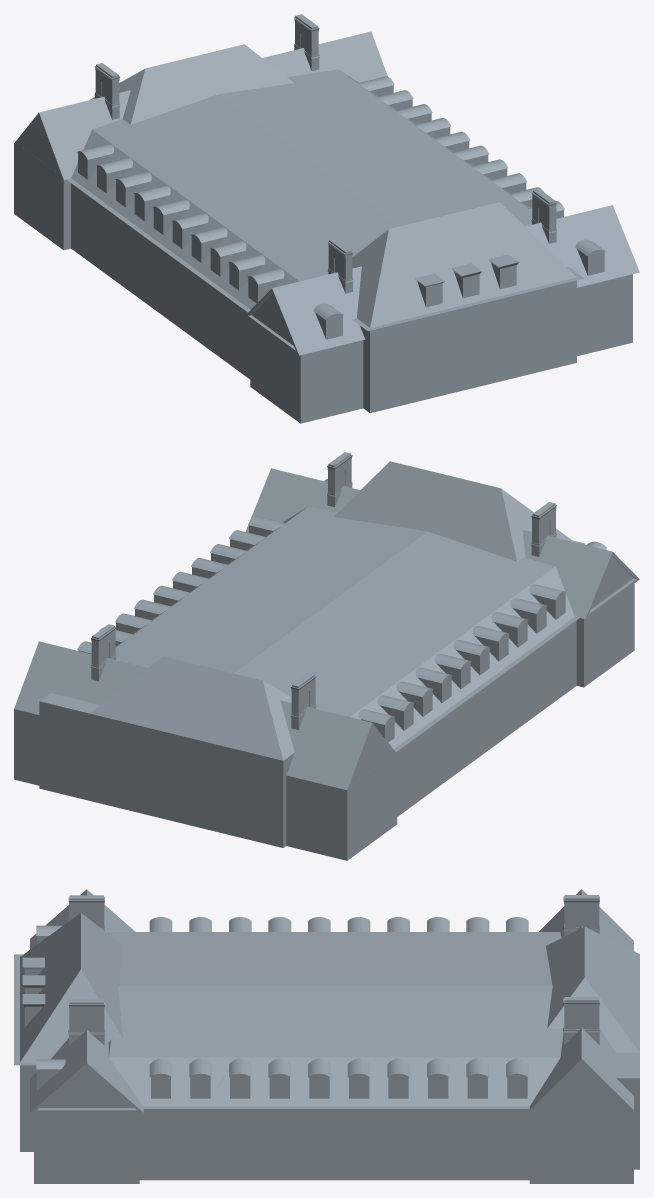
Rendered from huff.glb.
3 renders of one model, top to bottom at view 1: azimuth 30°, elevation 25°; view 2: azimuth 150°, elevation 25°; view 3: azimuth 270°, elevation 25°, orthographic. The views are drawn at different scales.
Visible parts, largest first — view 1: huff.002; view 2: huff.002; view 3: huff.002.
Boxes of the visible parts, x1=… form: huff.002: x1=14, y1=14, x2=639, y2=423; huff.002: x1=14, y1=452, x2=639, y2=860; huff.002: x1=14, y1=889, x2=639, y2=1183.
Bounding box in the file's own units: 2477 × 1050 × 3766.
